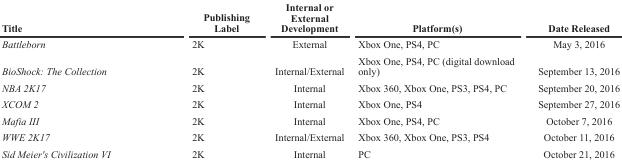table: (0, 1, 619, 159)
table column: (350, 1, 525, 159), (0, 1, 150, 159), (150, 1, 261, 159), (525, 1, 619, 159), (261, 1, 350, 159)
table column header: (0, 1, 619, 35)
table row: (0, 1, 619, 35), (0, 51, 619, 78), (0, 78, 619, 95), (0, 95, 619, 112), (0, 128, 619, 145), (0, 35, 619, 51), (0, 112, 619, 128), (0, 145, 619, 159)
